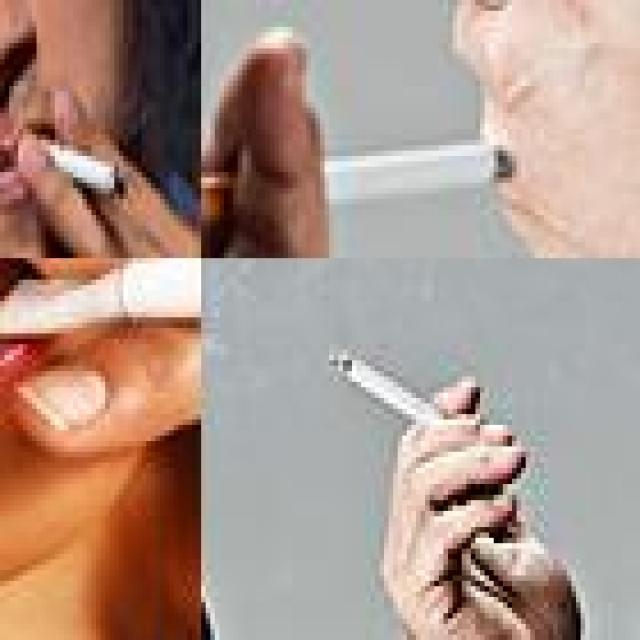smoke: (201, 140, 517, 232), (0, 258, 196, 339), (329, 349, 462, 442), (34, 121, 126, 207)
